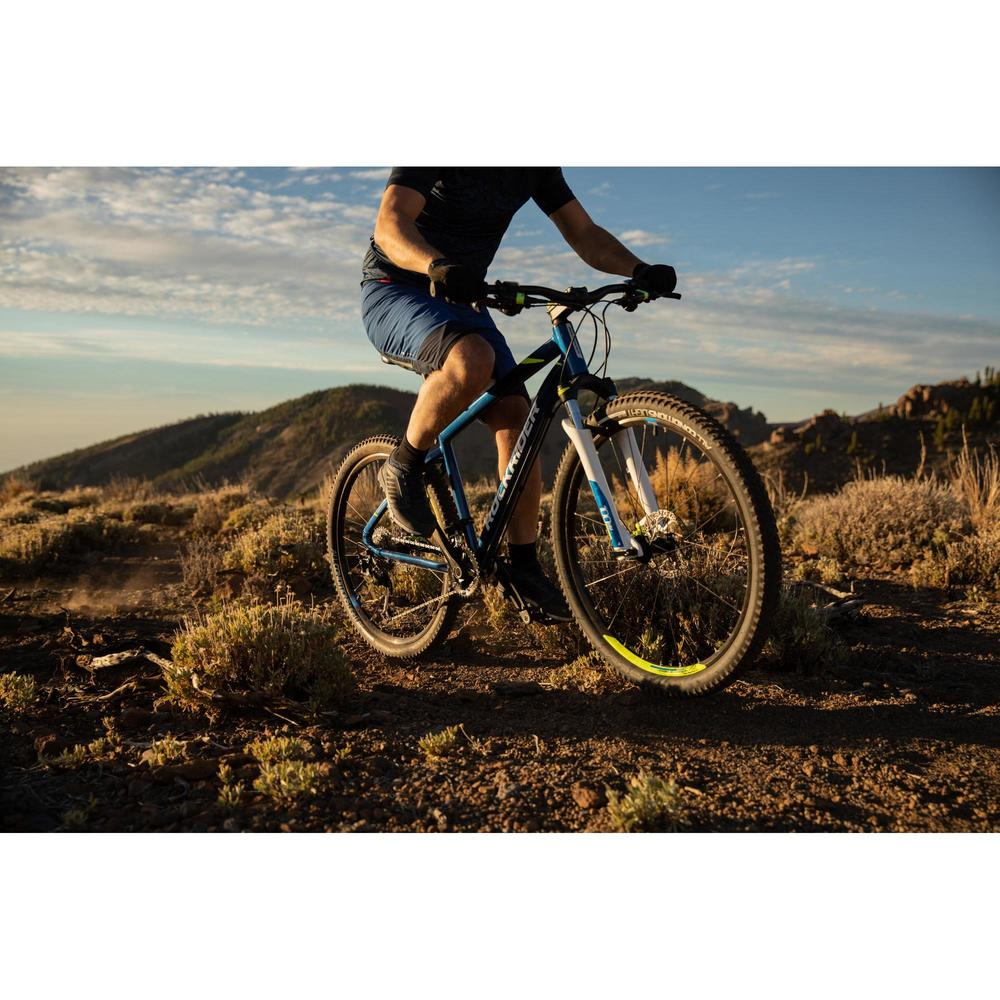MountainBike: (315, 259, 772, 683)
